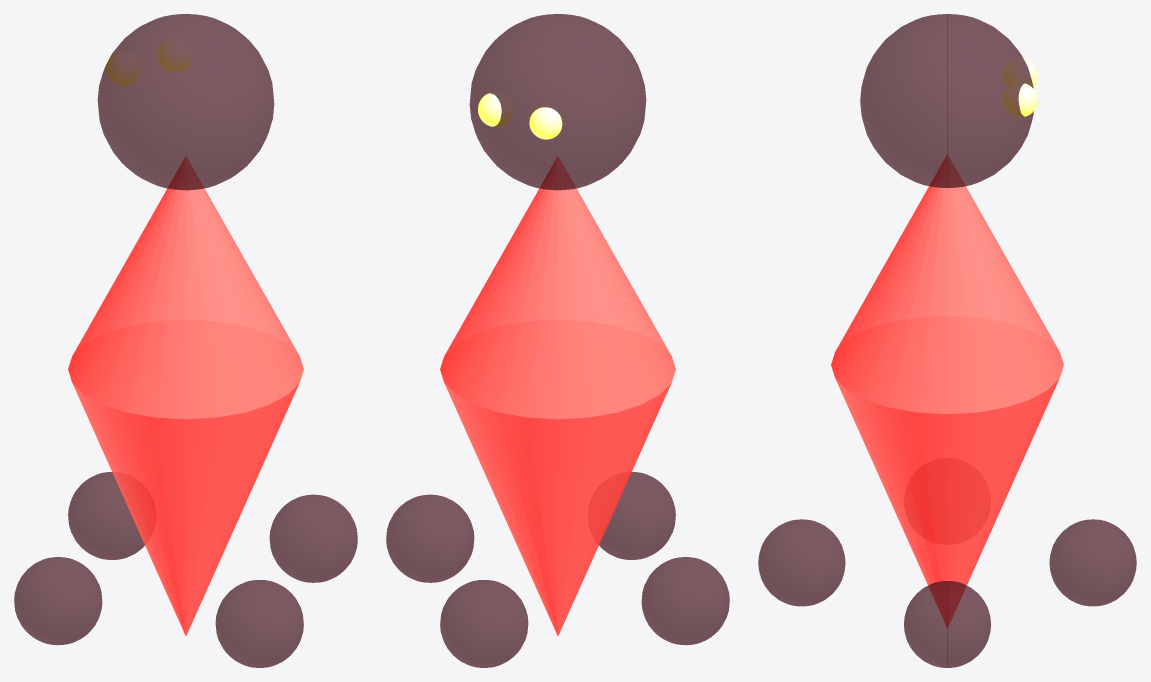
File: homunculus.glb
The picture shows the model from 3 angles, left to right: view 1: azimuth 30°, elevation 25°; view 2: azimuth 150°, elevation 25°; view 3: azimuth 270°, elevation 25°; orthographic projection.
Visible parts, largest first — view 1: red_crystal_0, shadow_2, red_crystal_1, shadow_5, shadow_7, shadow_6, shadow_8, eye_3, eye_4; view 2: red_crystal_0, shadow_2, red_crystal_1, shadow_5, shadow_7, shadow_8, shadow_6, eye_3, eye_4; view 3: red_crystal_0, shadow_2, red_crystal_1, shadow_6, shadow_8, shadow_5, eye_4, eye_3.
Part boxes in pixels (left/top/right/bottom): red_crystal_0: left=68, top=157, right=303, bottom=419; shadow_2: left=97, top=14, right=274, bottom=190; red_crystal_1: left=72, top=383, right=299, bottom=635; shadow_5: left=269, top=494, right=357, bottom=582; shadow_7: left=14, top=557, right=102, bottom=645; shadow_6: left=215, top=580, right=303, bottom=667; shadow_8: left=68, top=472, right=144, bottom=559; eye_3: left=106, top=50, right=140, bottom=85; eye_4: left=157, top=38, right=191, bottom=72; red_crystal_0: left=440, top=157, right=675, bottom=419; shadow_2: left=469, top=14, right=646, bottom=190; red_crystal_1: left=444, top=383, right=671, bottom=635; shadow_5: left=386, top=494, right=474, bottom=582; shadow_7: left=641, top=557, right=729, bottom=645; shadow_8: left=440, top=580, right=528, bottom=667; shadow_6: left=599, top=472, right=675, bottom=559; eye_3: left=529, top=104, right=563, bottom=139; eye_4: left=478, top=92, right=512, bottom=126; red_crystal_0: left=831, top=155, right=1063, bottom=414; shadow_2: left=860, top=14, right=1033, bottom=187; red_crystal_1: left=835, top=378, right=1059, bottom=627; shadow_6: left=758, top=519, right=845, bottom=606; shadow_8: left=1049, top=519, right=1136, bottom=606; shadow_5: left=904, top=581, right=990, bottom=667; eye_4: left=1003, top=83, right=1037, bottom=117; eye_3: left=1003, top=58, right=1037, bottom=87.
Size of the model in its own units: 0.26 by 0.46 by 0.26.
